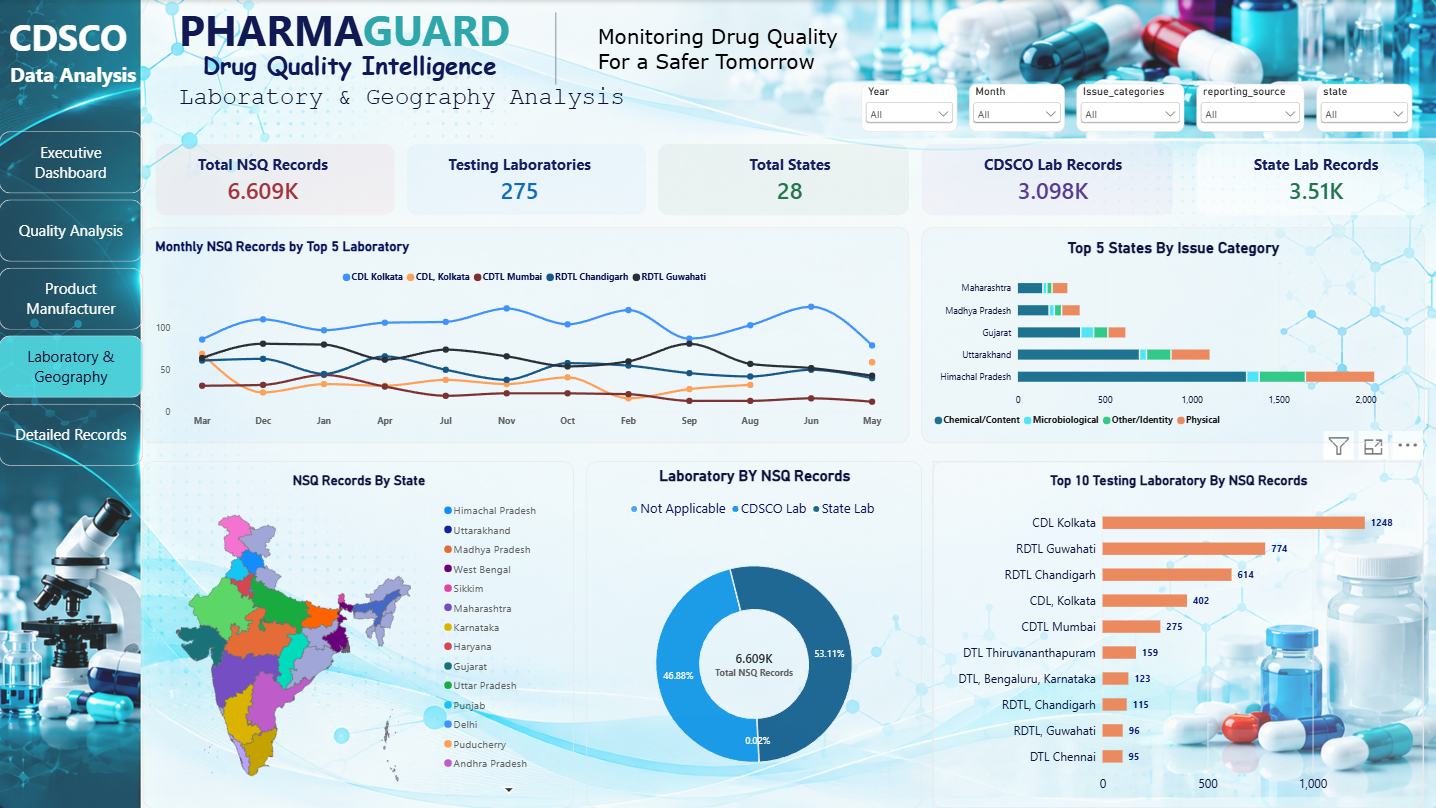

The dashboard page shown, as its layout file describes it:
{"tool":"powerbi","page":{"name":"Laboratory & Geography","canvas":[1920,1080],"ordinal":3},"visuals":[{"type":"shape","box":[1600,192,304,96],"z":0},{"type":"shape","box":[208,192,320,96],"z":1000},{"type":"cardVisual","fields":{"Data":["PharmaGuard.Total NSQ Records"]},"box":[240,192,224,96],"z":2000},{"type":"textbox","box":[240,0,496,80],"z":3000},{"type":"textbox","box":[272,64,496,80],"z":4000},{"type":"textbox","box":[240,112,640,48],"z":5000},{"type":"shape","box":[720,16,48,96],"z":6000},{"type":"textbox","box":[800,32,336,80],"z":7000},{"type":"slicer","fields":{"Values":["PharmaGuard.report_month_name"]},"box":[1296,112,128,64],"z":8000},{"type":"slicer","fields":{"Values":["PharmaGuard.report_year"]},"box":[1152,112,128,64],"z":9000},{"type":"slicer","fields":{"Values":["PharmaGuard.reporting_source"]},"box":[1600,112,144,64],"z":10000},{"type":"slicer","fields":{"Values":["PharmaGuard.quality_categories"]},"box":[1440,112,144,64],"z":11000},{"type":"slicer","fields":{"Values":["PharmaGuard.state"]},"box":[1760,112,128,64],"z":12000},{"type":"shape","box":[544,192,320,96],"z":13000},{"type":"shape","box":[880,192,336,96],"z":14000},{"type":"shape","box":[1232,192,336,96],"z":15000},{"type":"cardVisual","fields":{"Data":["PharmaGuard.Unique Laboratories"]},"box":[560,192,272,96],"z":16000},{"type":"cardVisual","fields":{"Data":["PharmaGuard.Unique States"]},"box":[928,192,256,96],"z":17000},{"type":"cardVisual","fields":{"Data":["PharmaGuard.CDSCO Lab Records"]},"box":[1264,192,288,96],"z":18000},{"type":"cardVisual","fields":{"Data":["PharmaGuard.State Lab Records"]},"box":[1632,192,256,96],"z":19000},{"type":"barChart","title":" Top 10 Testing Laboratory By NSQ Records ","fields":{"Y":["PharmaGuard.Total NSQ Records"],"Category":["PharmaGuard.reported_by_lab_or_state"]},"box":[1248,616,656,464],"z":20000},{"type":"textbox","box":[0,16,192,192],"z":21000},{"type":"shapeMap","title":"NSQ Records By State","fields":{"Value":["PharmaGuard.Total NSQ Records"],"Category":["PharmaGuard.state"],"Series":["PharmaGuard.state"]},"box":[192,616,576,464],"z":22000},{"type":"donutChart","title":"Laboratory BY NSQ Records","fields":{"Category":["PharmaGuard.reporting_source"],"Y":["PharmaGuard.Total NSQ Records"]},"box":[784,616,448,464],"z":23000},{"type":"lineChart","title":"Monthly NSQ Records by Top 5 Laboratory ","fields":{"Category":["PharmaGuard.report_month_name"],"Y":["PharmaGuard.Total NSQ Records"],"Series":["PharmaGuard.reported_by_lab_or_state"]},"box":[192,304,1024,288],"z":24000},{"type":"barChart","title":"Top 5 States By Issue Category","fields":{"Category":["PharmaGuard.state"],"Y":["PharmaGuard.Total NSQ Records"],"Series":["PharmaGuard.quality_categories"]},"box":[1232,304,672,288],"z":25000},{"type":"pageNavigator","box":[0,176,192,448],"z":25001}]}

Visuals, with their boxes on the page's 1920x1080 design canvas (x1, y1, x2, y2). These are canvas units, not pixel positions in the 1436x808 screenshot, which may show the page scaled, cropped or inside an application window:
shape: 1600,192,1904,288
shape: 208,192,528,288
cardVisual - PharmaGuard.Total NSQ Records: 240,192,464,288
textbox: 240,0,736,80
textbox: 272,64,768,144
textbox: 240,112,880,160
shape: 720,16,768,112
textbox: 800,32,1136,112
slicer - PharmaGuard.report_month_name: 1296,112,1424,176
slicer - PharmaGuard.report_year: 1152,112,1280,176
slicer - PharmaGuard.reporting_source: 1600,112,1744,176
slicer - PharmaGuard.quality_categories: 1440,112,1584,176
slicer - PharmaGuard.state: 1760,112,1888,176
shape: 544,192,864,288
shape: 880,192,1216,288
shape: 1232,192,1568,288
cardVisual - PharmaGuard.Unique Laboratories: 560,192,832,288
cardVisual - PharmaGuard.Unique States: 928,192,1184,288
cardVisual - PharmaGuard.CDSCO Lab Records: 1264,192,1552,288
cardVisual - PharmaGuard.State Lab Records: 1632,192,1888,288
" Top 10 Testing Laboratory By NSQ Records " barChart: 1248,616,1904,1080
textbox: 0,16,192,208
"NSQ Records By State" shapeMap: 192,616,768,1080
"Laboratory BY NSQ Records" donutChart: 784,616,1232,1080
"Monthly NSQ Records by Top 5 Laboratory " lineChart: 192,304,1216,592
"Top 5 States By Issue Category" barChart: 1232,304,1904,592
pageNavigator: 0,176,192,624
